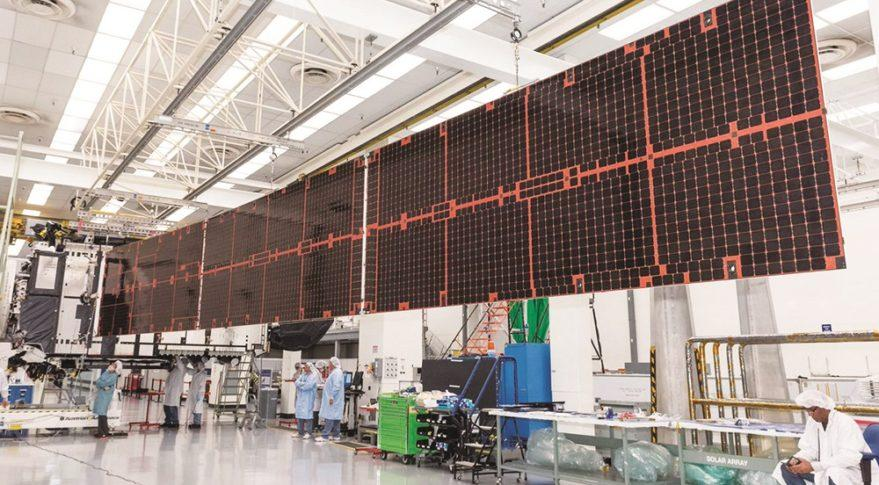solar: (94, 0, 850, 340)
